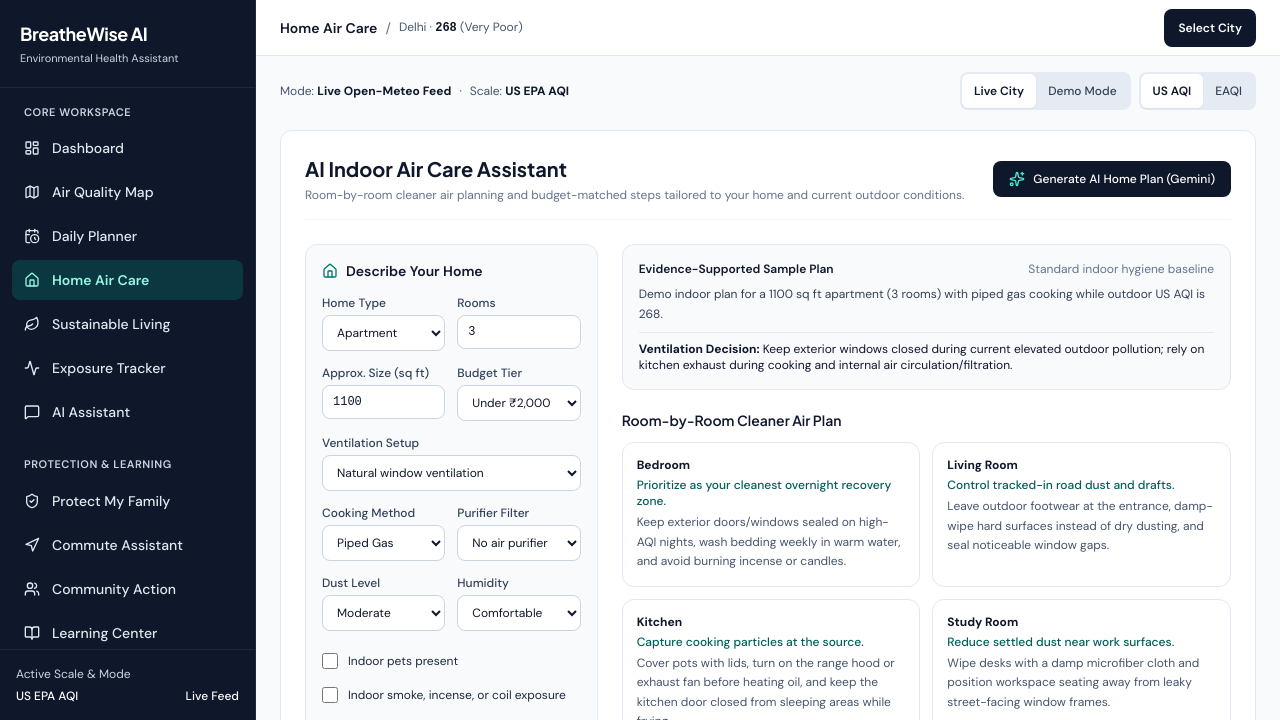
BreatheWise AI Advanced Workflows: Live Gemini, Loading/Error Recovery, Notifications & Export › executes live Gemini workflows for outdoor-activity, indoor-care, budget-home-upgrade, family-protection, explain-air, and sustainability-plan
Earlier steps of the test are not shown.
Later steps or results of the test are not shown.
Click the button "Generate AI Home Plan (Gemini)".
click(1112, 179)  # box [993,161,1231,197]
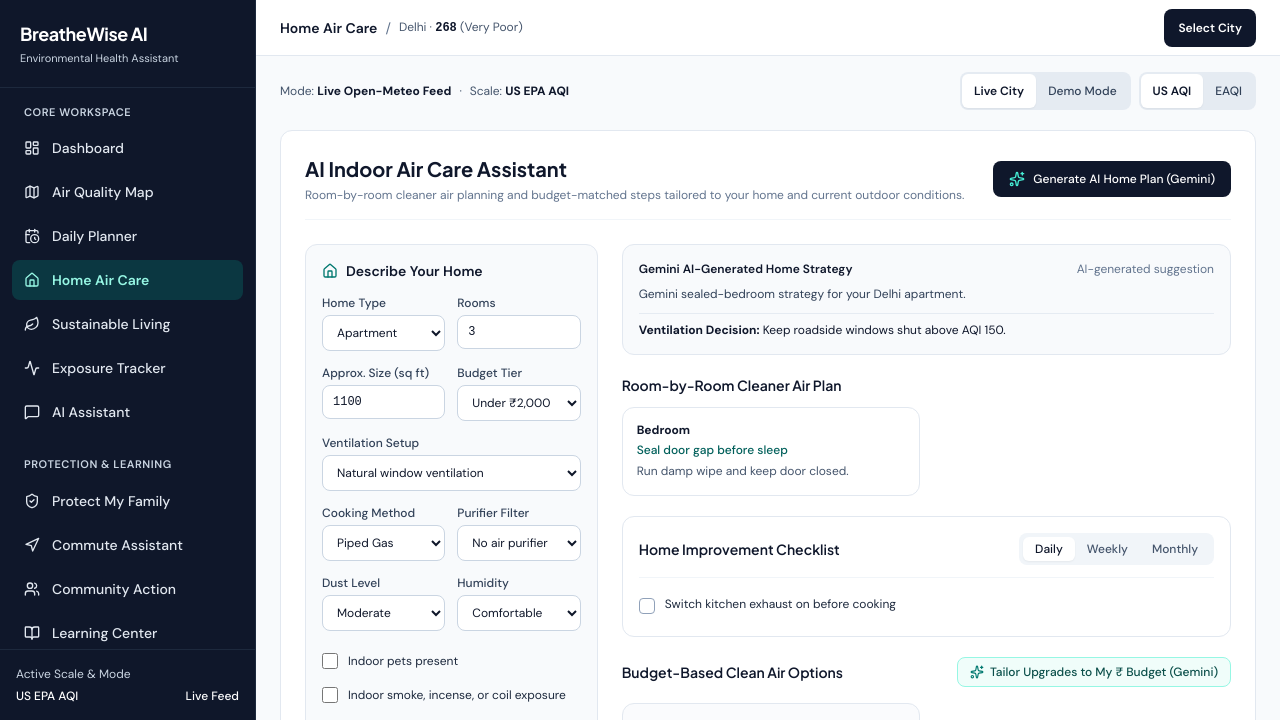
Expected: the text "Gemini sealed-bedroom strategy for your Delhi apartment." is shown, [639,286,966,302]
Click the checkbox labelled "Switch kitchen exhaust on before cooking".
click(780, 604)  # box [639,590,1214,620]
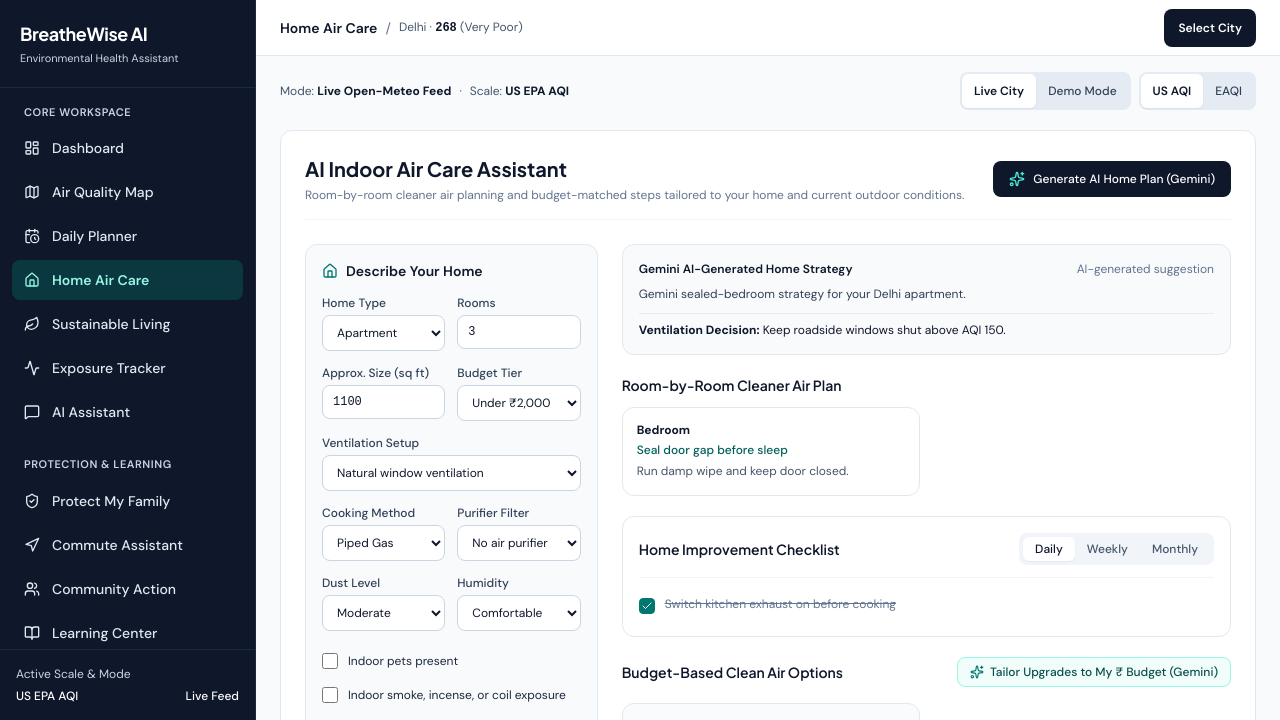
Expected: the checkbox labelled "Switch kitchen exhaust on before cooking" is checked, [639,590,1214,620]
Click the button "Tailor Upgrades to My ₹ Budget (Gemini)".
click(1094, 672)  # box [957,657,1231,687]
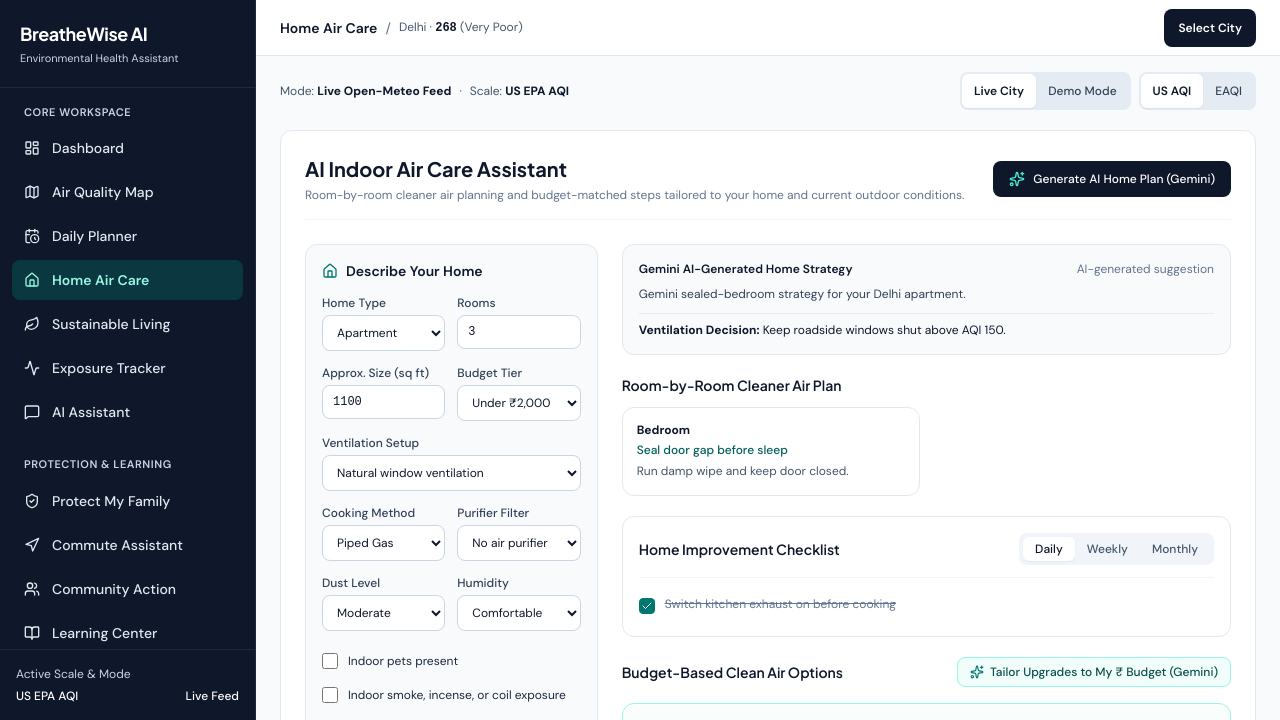
Click the button "Protect My Family".
click(128, 500)  # box [12,480,243,520]
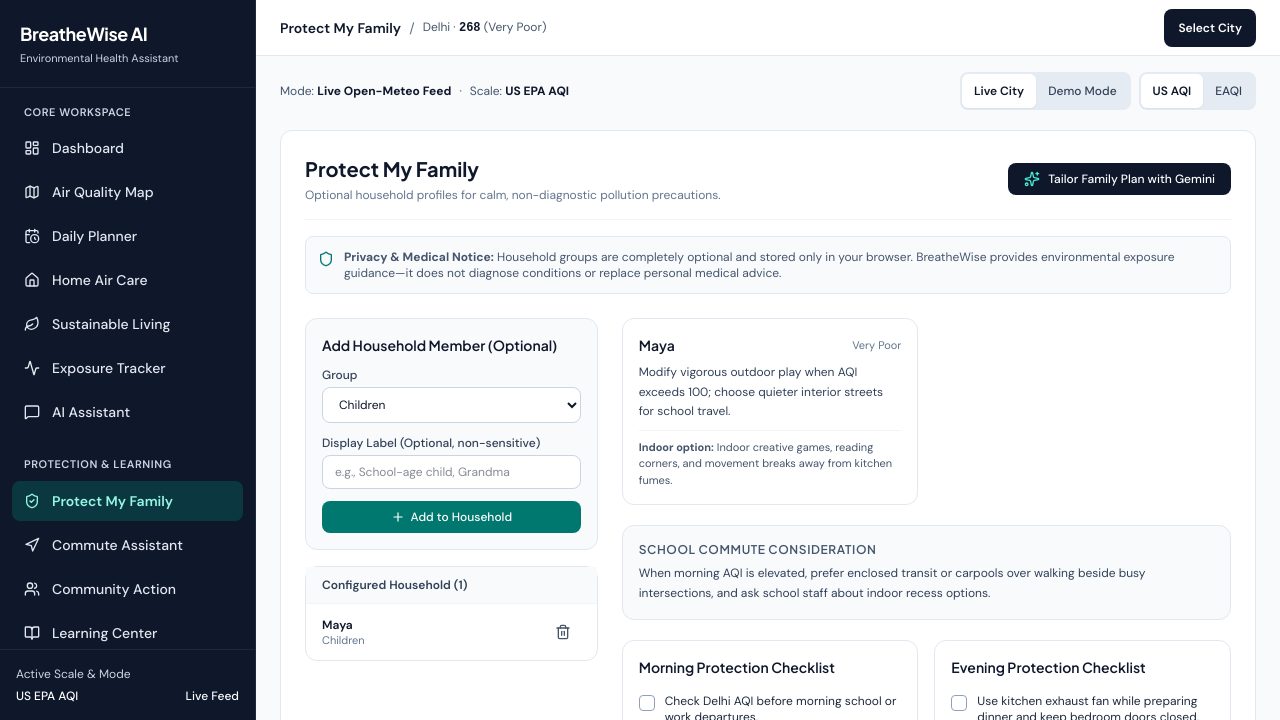
Click the button "Tailor Family Plan with Gemini".
click(1120, 179)  # box [1008,163,1231,195]
(page scrolled)
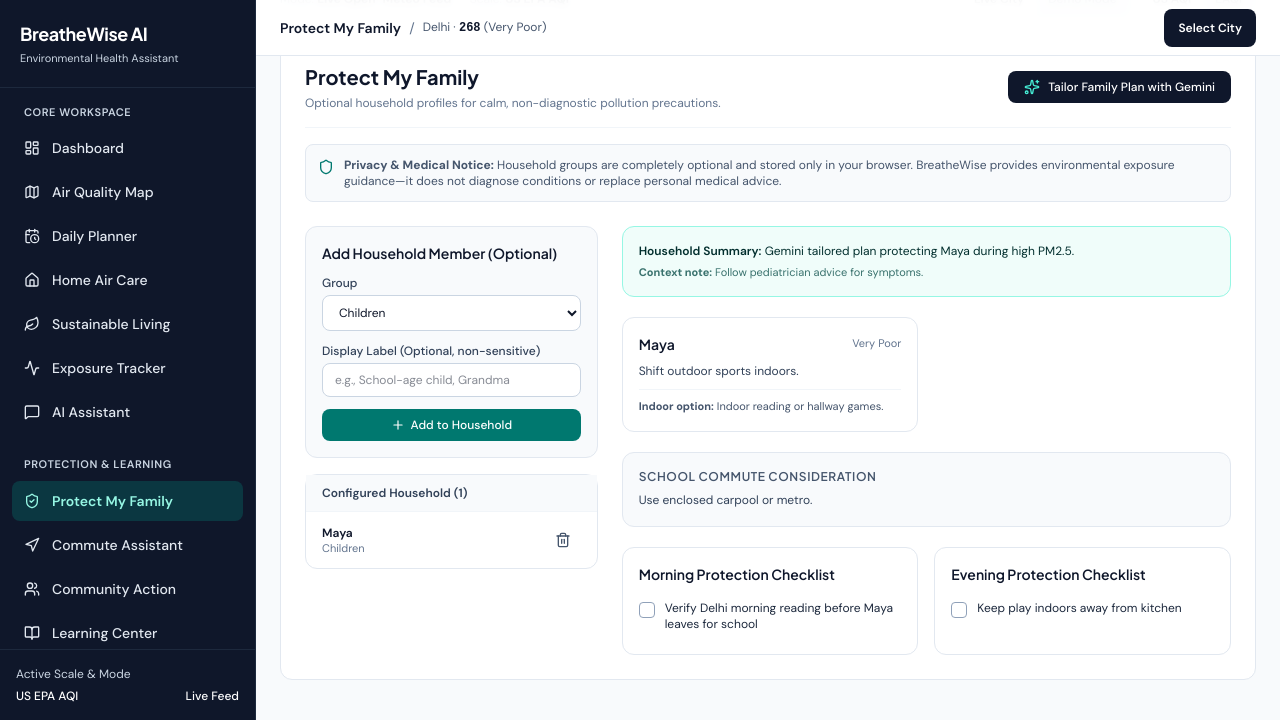
Expected: the text "Gemini tailored plan protecting Maya during high PM2.5" is shown, [765,243,1074,259]
Click the checkbox labelled "Verify Delhi morning reading before Maya leaves for school".
click(770, 616)  # box [639,594,901,638]
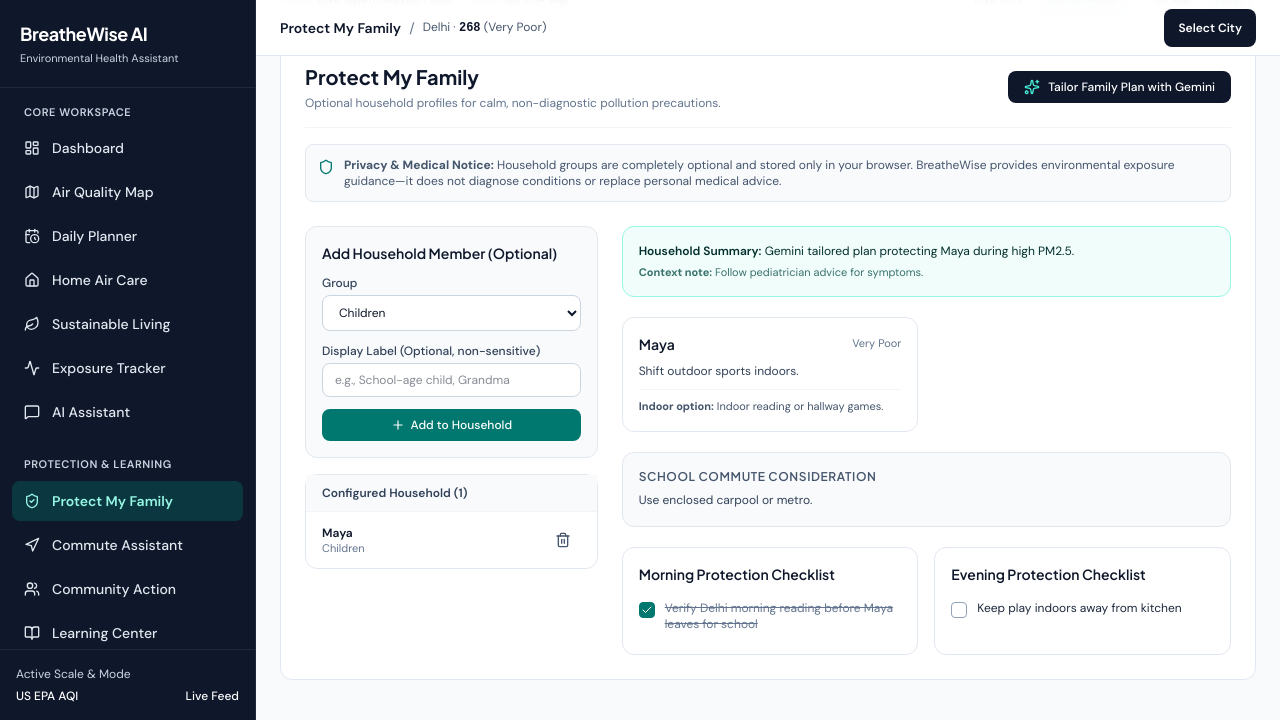
Expected: the checkbox labelled "Verify Delhi morning reading before Maya leaves for school" is checked, [639,594,901,638]
